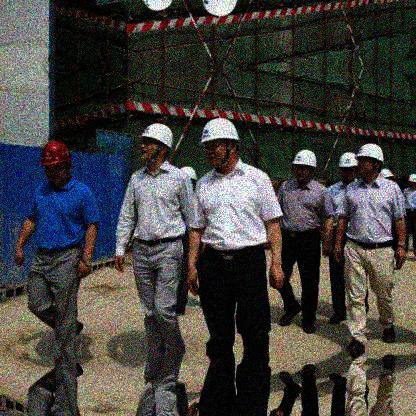helmet: (198, 116, 244, 169), (37, 139, 75, 186), (138, 121, 176, 166), (355, 142, 385, 177), (292, 148, 319, 185), (336, 152, 360, 181)
